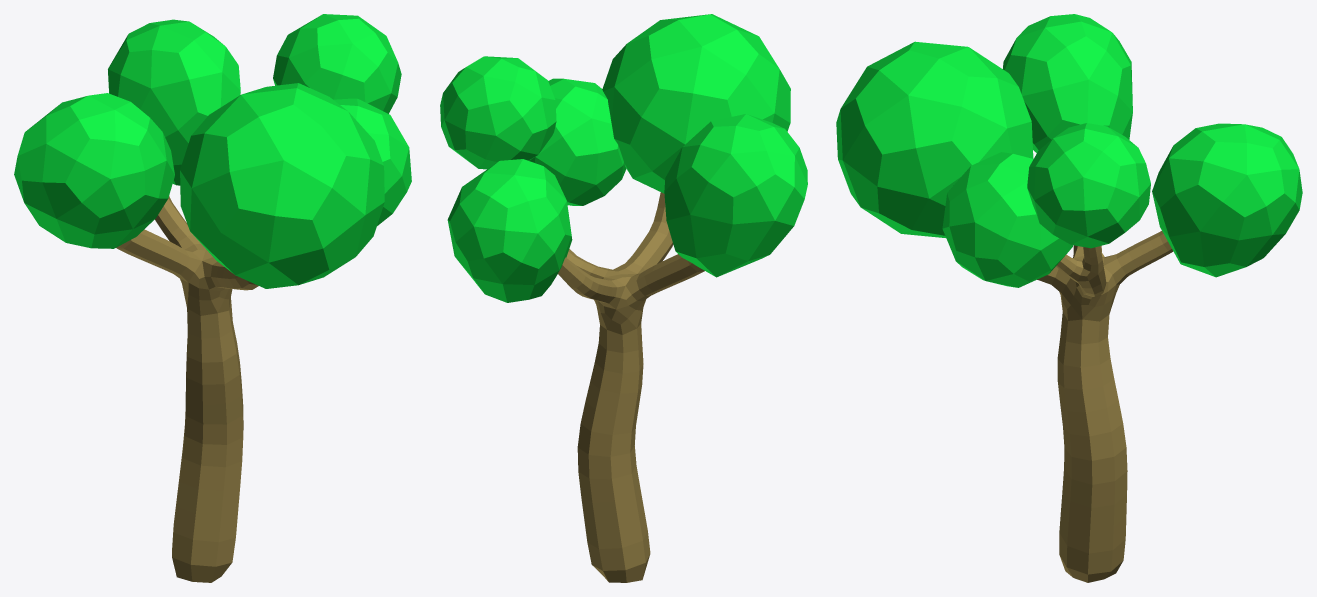
Rendered from Tree02.fbx.
3 views of the same model, side by side, from view 1: azimuth 30°, elevation 25°; view 2: azimuth 150°, elevation 25°; view 3: azimuth 270°, elevation 25° (orthographic). The views are drawn at different scales.
Visible parts, largest first — view 1: Tree02; view 2: Tree02; view 3: Tree02.
Part boxes in pixels (bbox=[...]): Tree02: bbox=[14, 14, 411, 582]; Tree02: bbox=[440, 14, 807, 582]; Tree02: bbox=[836, 14, 1302, 582].
Size of the model in its own units: 3.54 by 4.8 by 3.88.
